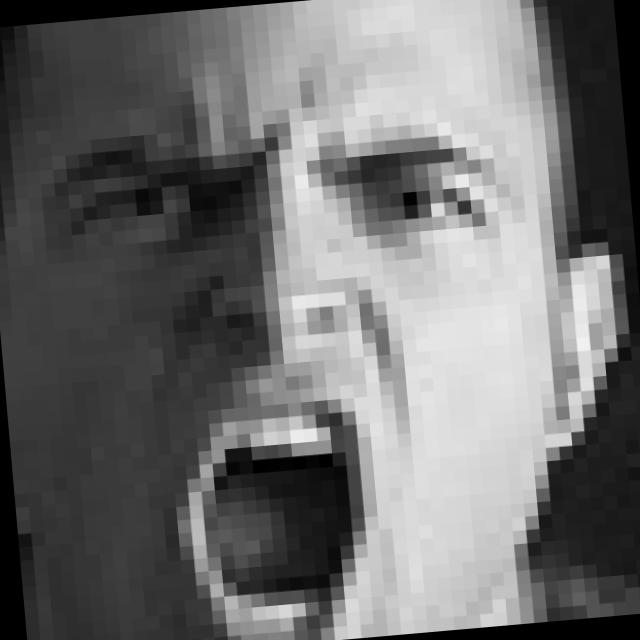angry: (36, 111, 543, 640)
